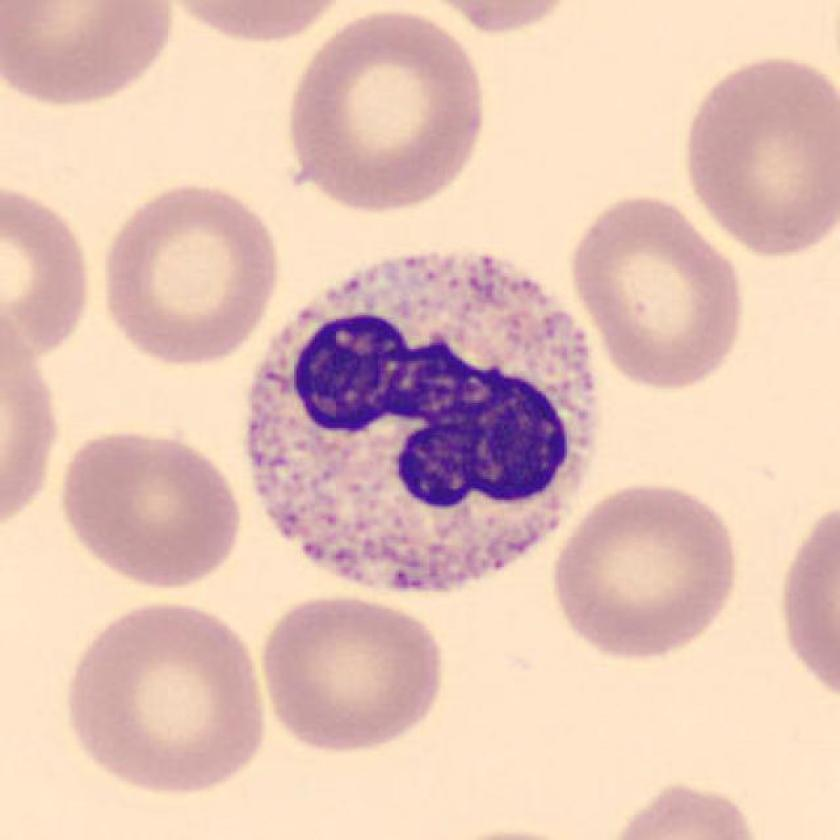neutrophil: (249, 253, 600, 592)
